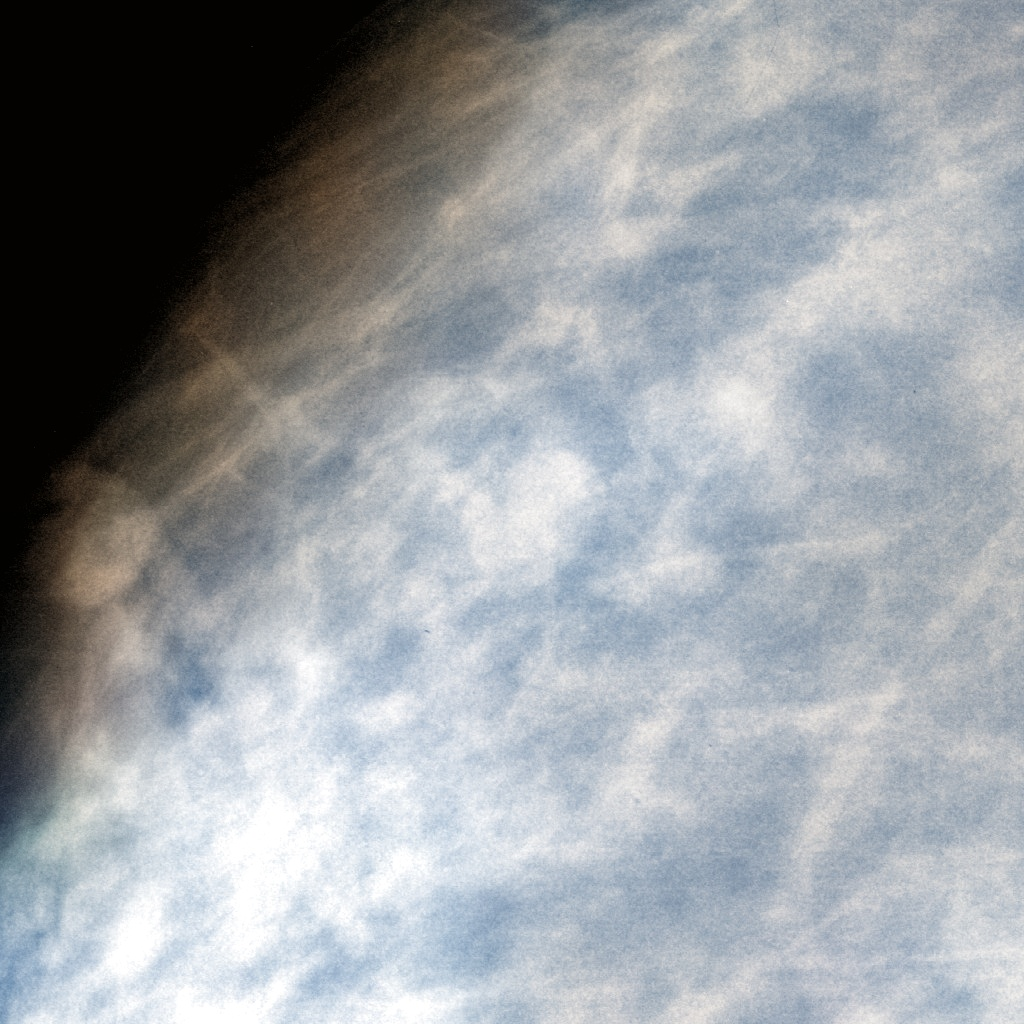tumor: (392, 398, 632, 626)
